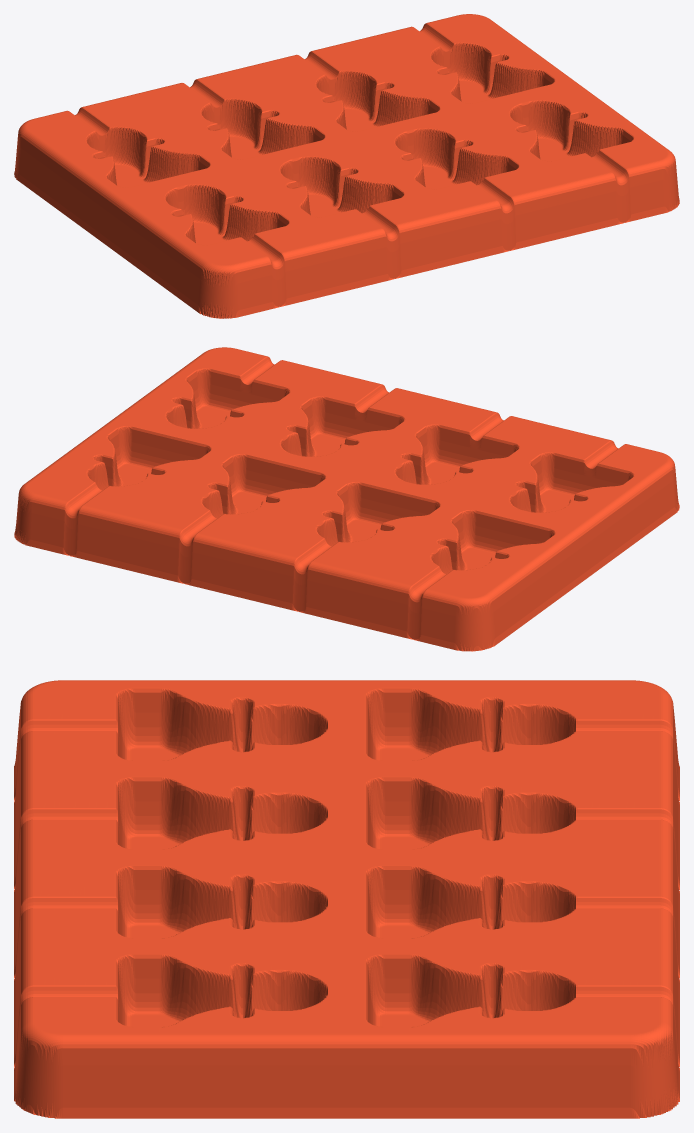
Rendered from mold.glb.
3 views of the same model, one above another, from view 1: azimuth 30°, elevation 25°; view 2: azimuth 150°, elevation 25°; view 3: azimuth 270°, elevation 25° (orthographic). The views are drawn at different scales.
Parts seen in each view (by area): view 1: geometry_0; view 2: geometry_0; view 3: geometry_0.
Part boxes in pixels (<box>): geometry_0: <box>14,14,679,318</box>; geometry_0: <box>14,347,679,651</box>; geometry_0: <box>14,680,679,1118</box>.
Bounding box in the file's own units: 0.1613 × 0.0155 × 0.1229.
